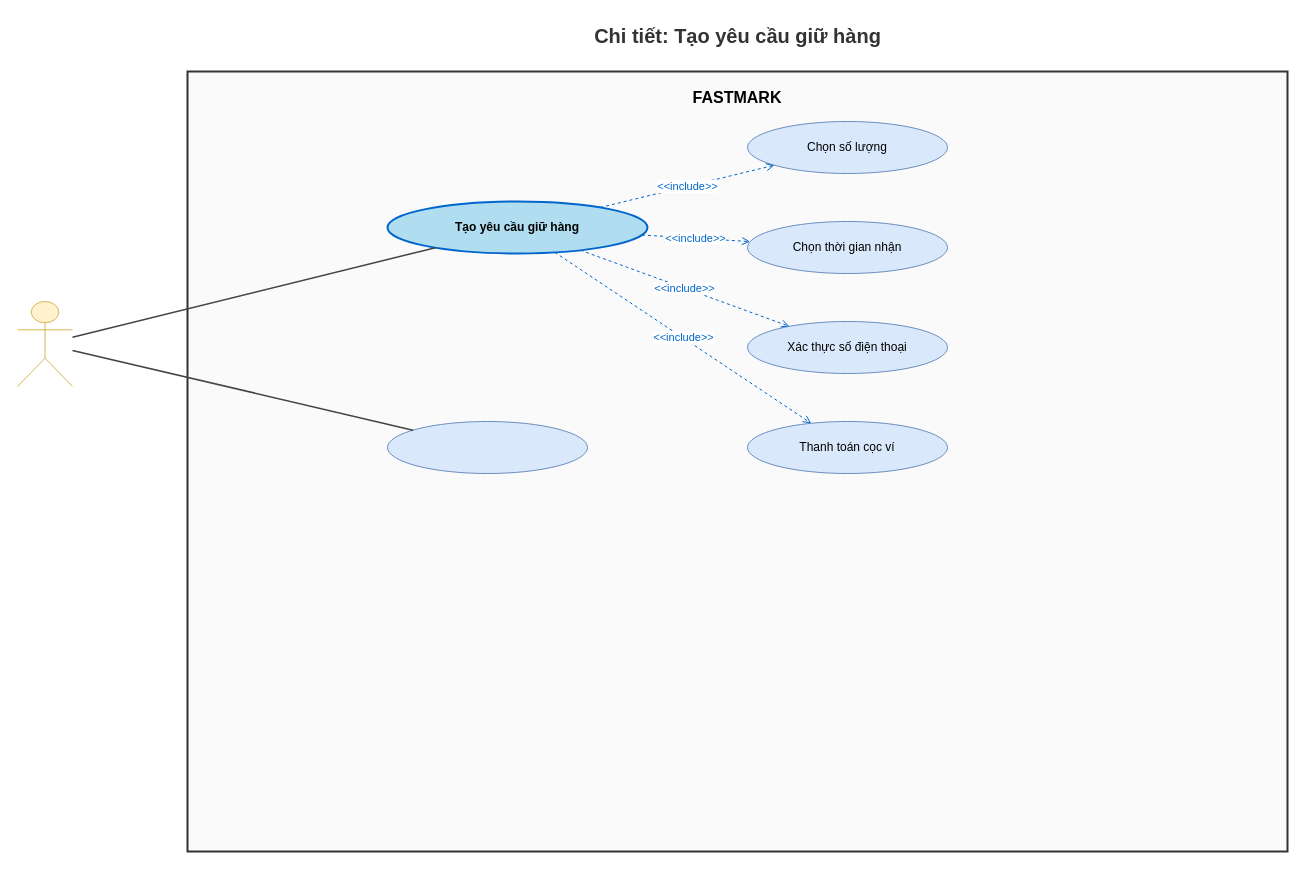
The diagram is 1306 pixels wide and 869 high, and some of its shapes have lost their labels. The shapes that lost their labels are listed below. From the top down, each one's centre as x and y in pixels, then its label:
At point 44,343: "User".
At point 487,447: "Hủy yêu cầu giữ hàng".
